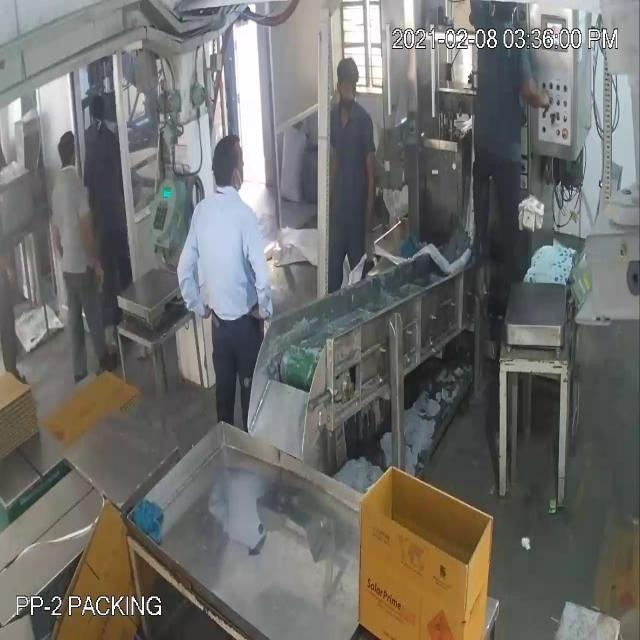No_Gloves: (31, 81, 534, 280)
